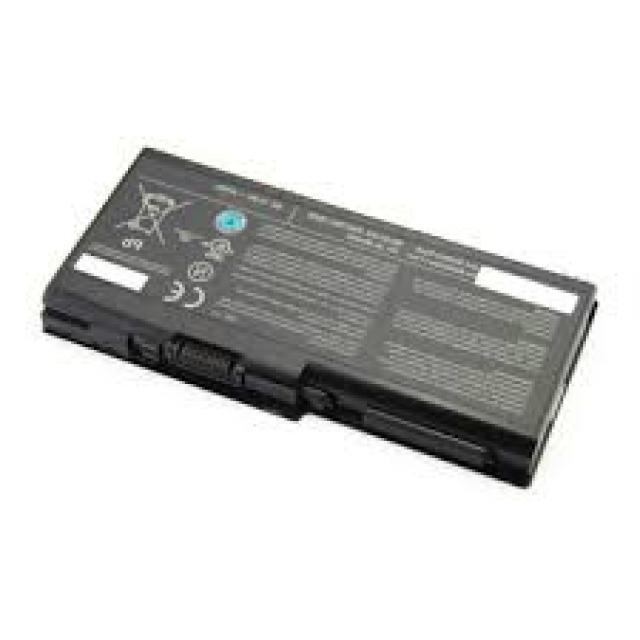battery: (41, 142, 598, 490)
